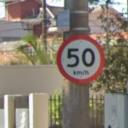speed_limit_50: (56, 34, 106, 84)
